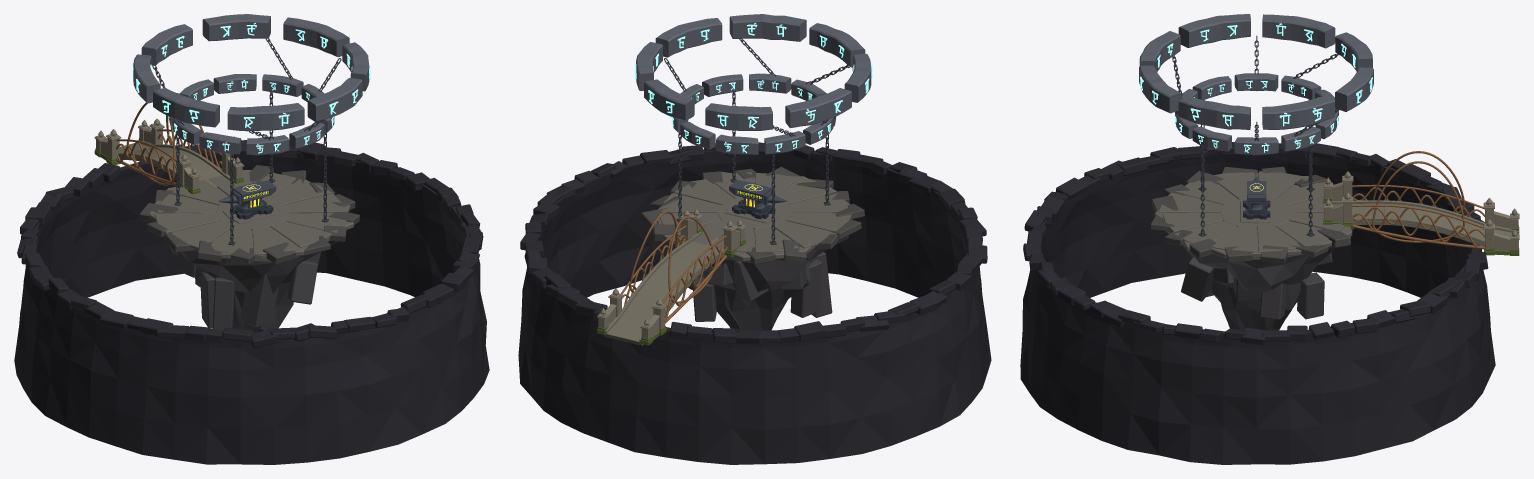
File: RunesmithSanctuary.fbx
3 views of the same model, side by side, from view 1: azimuth 30°, elevation 25°; view 2: azimuth 150°, elevation 25°; view 3: azimuth 270°, elevation 25° (orthographic).
Visible parts, largest first — view 1: Hub_ChasmWall, Ring_UpperStone, Platform_TopFlagstones, Platform_RockSpire, Ring_LowerStone, Platform_RimShelves, Bridge_StoneAbutments, Bridge_WalkwayDeck, Bridge_IronLattice, Ring_UpperRunes, Anvil_Body, Chains_Iron_Back (+3 smaller); view 2: Hub_ChasmWall, Ring_UpperStone, Platform_TopFlagstones, Platform_RockSpire, Ring_LowerStone, Bridge_WalkwayDeck, Platform_RimShelves, Bridge_StoneAbutments, Bridge_IronLattice, Ring_UpperRunes, Anvil_Body, Bridge_CanopyRings (+3 smaller); view 3: Hub_ChasmWall, Ring_UpperStone, Platform_TopFlagstones, Platform_RockSpire, Ring_LowerStone, Platform_RimShelves, Bridge_WalkwayDeck, Bridge_StoneAbutments, Bridge_IronLattice, Bridge_CanopyRings, Ring_UpperRunes, Chains_Iron_Upper (+2 smaller).
Boxes of the visible parts, <box> form: Hub_ChasmWall: <box>14,136,489,464</box>; Ring_UpperStone: <box>133,14,369,131</box>; Platform_TopFlagstones: <box>149,170,353,259</box>; Platform_RockSpire: <box>168,240,338,332</box>; Ring_LowerStone: <box>169,74,334,155</box>; Platform_RimShelves: <box>139,165,359,264</box>; Bridge_StoneAbutments: <box>94,118,244,189</box>; Bridge_WalkwayDeck: <box>118,140,233,187</box>; Bridge_IronLattice: <box>116,129,221,185</box>; Ring_UpperRunes: <box>132,23,370,128</box>; Anvil_Body: <box>218,180,276,209</box>; Chains_Iron_Back: <box>228,132,328,245</box>; Hub_ChasmWall: <box>518,142,991,464</box>; Ring_UpperStone: <box>636,14,871,130</box>; Platform_TopFlagstones: <box>657,171,851,261</box>; Platform_RockSpire: <box>688,235,848,332</box>; Ring_LowerStone: <box>673,73,835,154</box>; Bridge_WalkwayDeck: <box>604,232,724,345</box>; Platform_RimShelves: <box>641,167,864,264</box>; Bridge_StoneAbutments: <box>597,209,746,339</box>; Bridge_IronLattice: <box>621,225,727,323</box>; Ring_UpperRunes: <box>634,22,872,128</box>; Anvil_Body: <box>729,180,786,208</box>; Bridge_CanopyRings: <box>629,211,716,303</box>; Hub_ChasmWall: <box>1020,142,1495,464</box>; Ring_UpperStone: <box>1139,14,1373,129</box>; Platform_TopFlagstones: <box>1154,171,1352,258</box>; Platform_RockSpire: <box>1166,227,1354,330</box>; Ring_LowerStone: <box>1175,73,1338,155</box>; Platform_RimShelves: <box>1150,166,1350,263</box>; Bridge_WalkwayDeck: <box>1331,200,1518,246</box>; Bridge_StoneAbutments: <box>1323,171,1519,250</box>; Bridge_IronLattice: <box>1352,184,1484,249</box>; Bridge_CanopyRings: <box>1372,151,1465,242</box>; Ring_UpperRunes: <box>1140,23,1372,126</box>; Chains_Iron_Upper: <box>1172,35,1339,140</box>.
Size of the model in its own units: 77.17 by 54.25 by 81.06.
